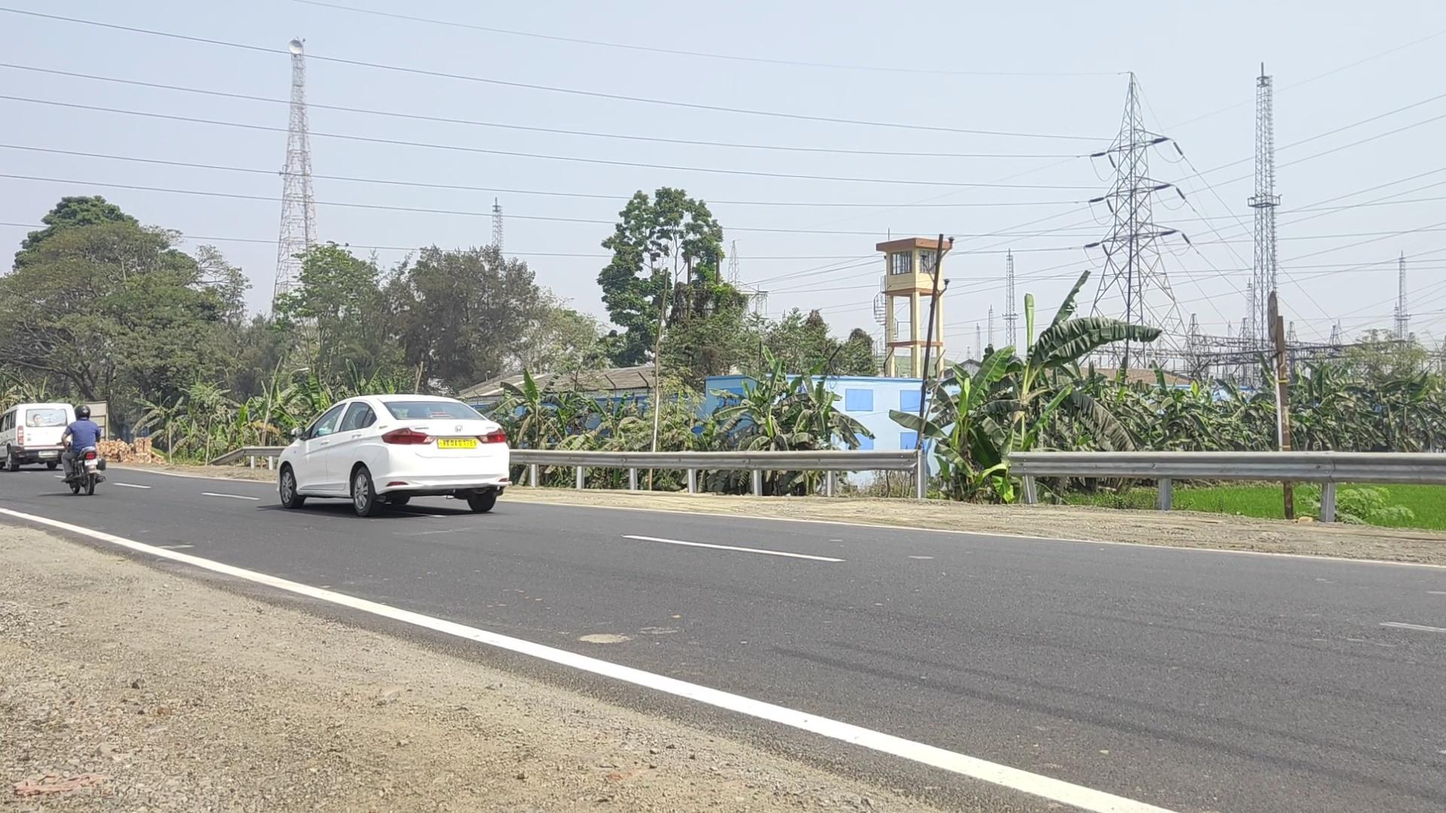bike: (56, 404, 107, 495)
car: (276, 394, 511, 517), (1, 402, 76, 473)
